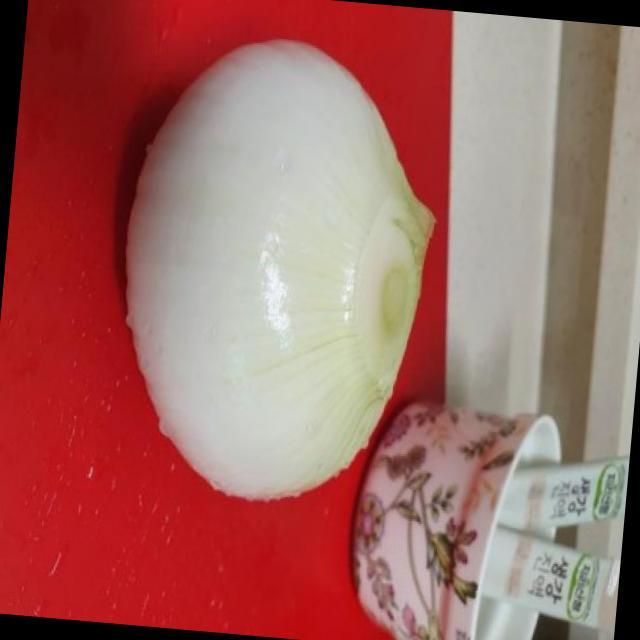Onion: (125, 38, 432, 495)
